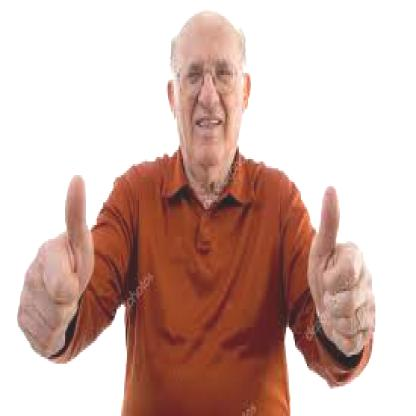Thumbs up: (301, 182, 372, 347)
